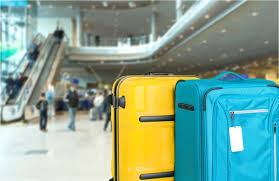suitcase: (173, 71, 279, 181), (109, 70, 200, 181)
